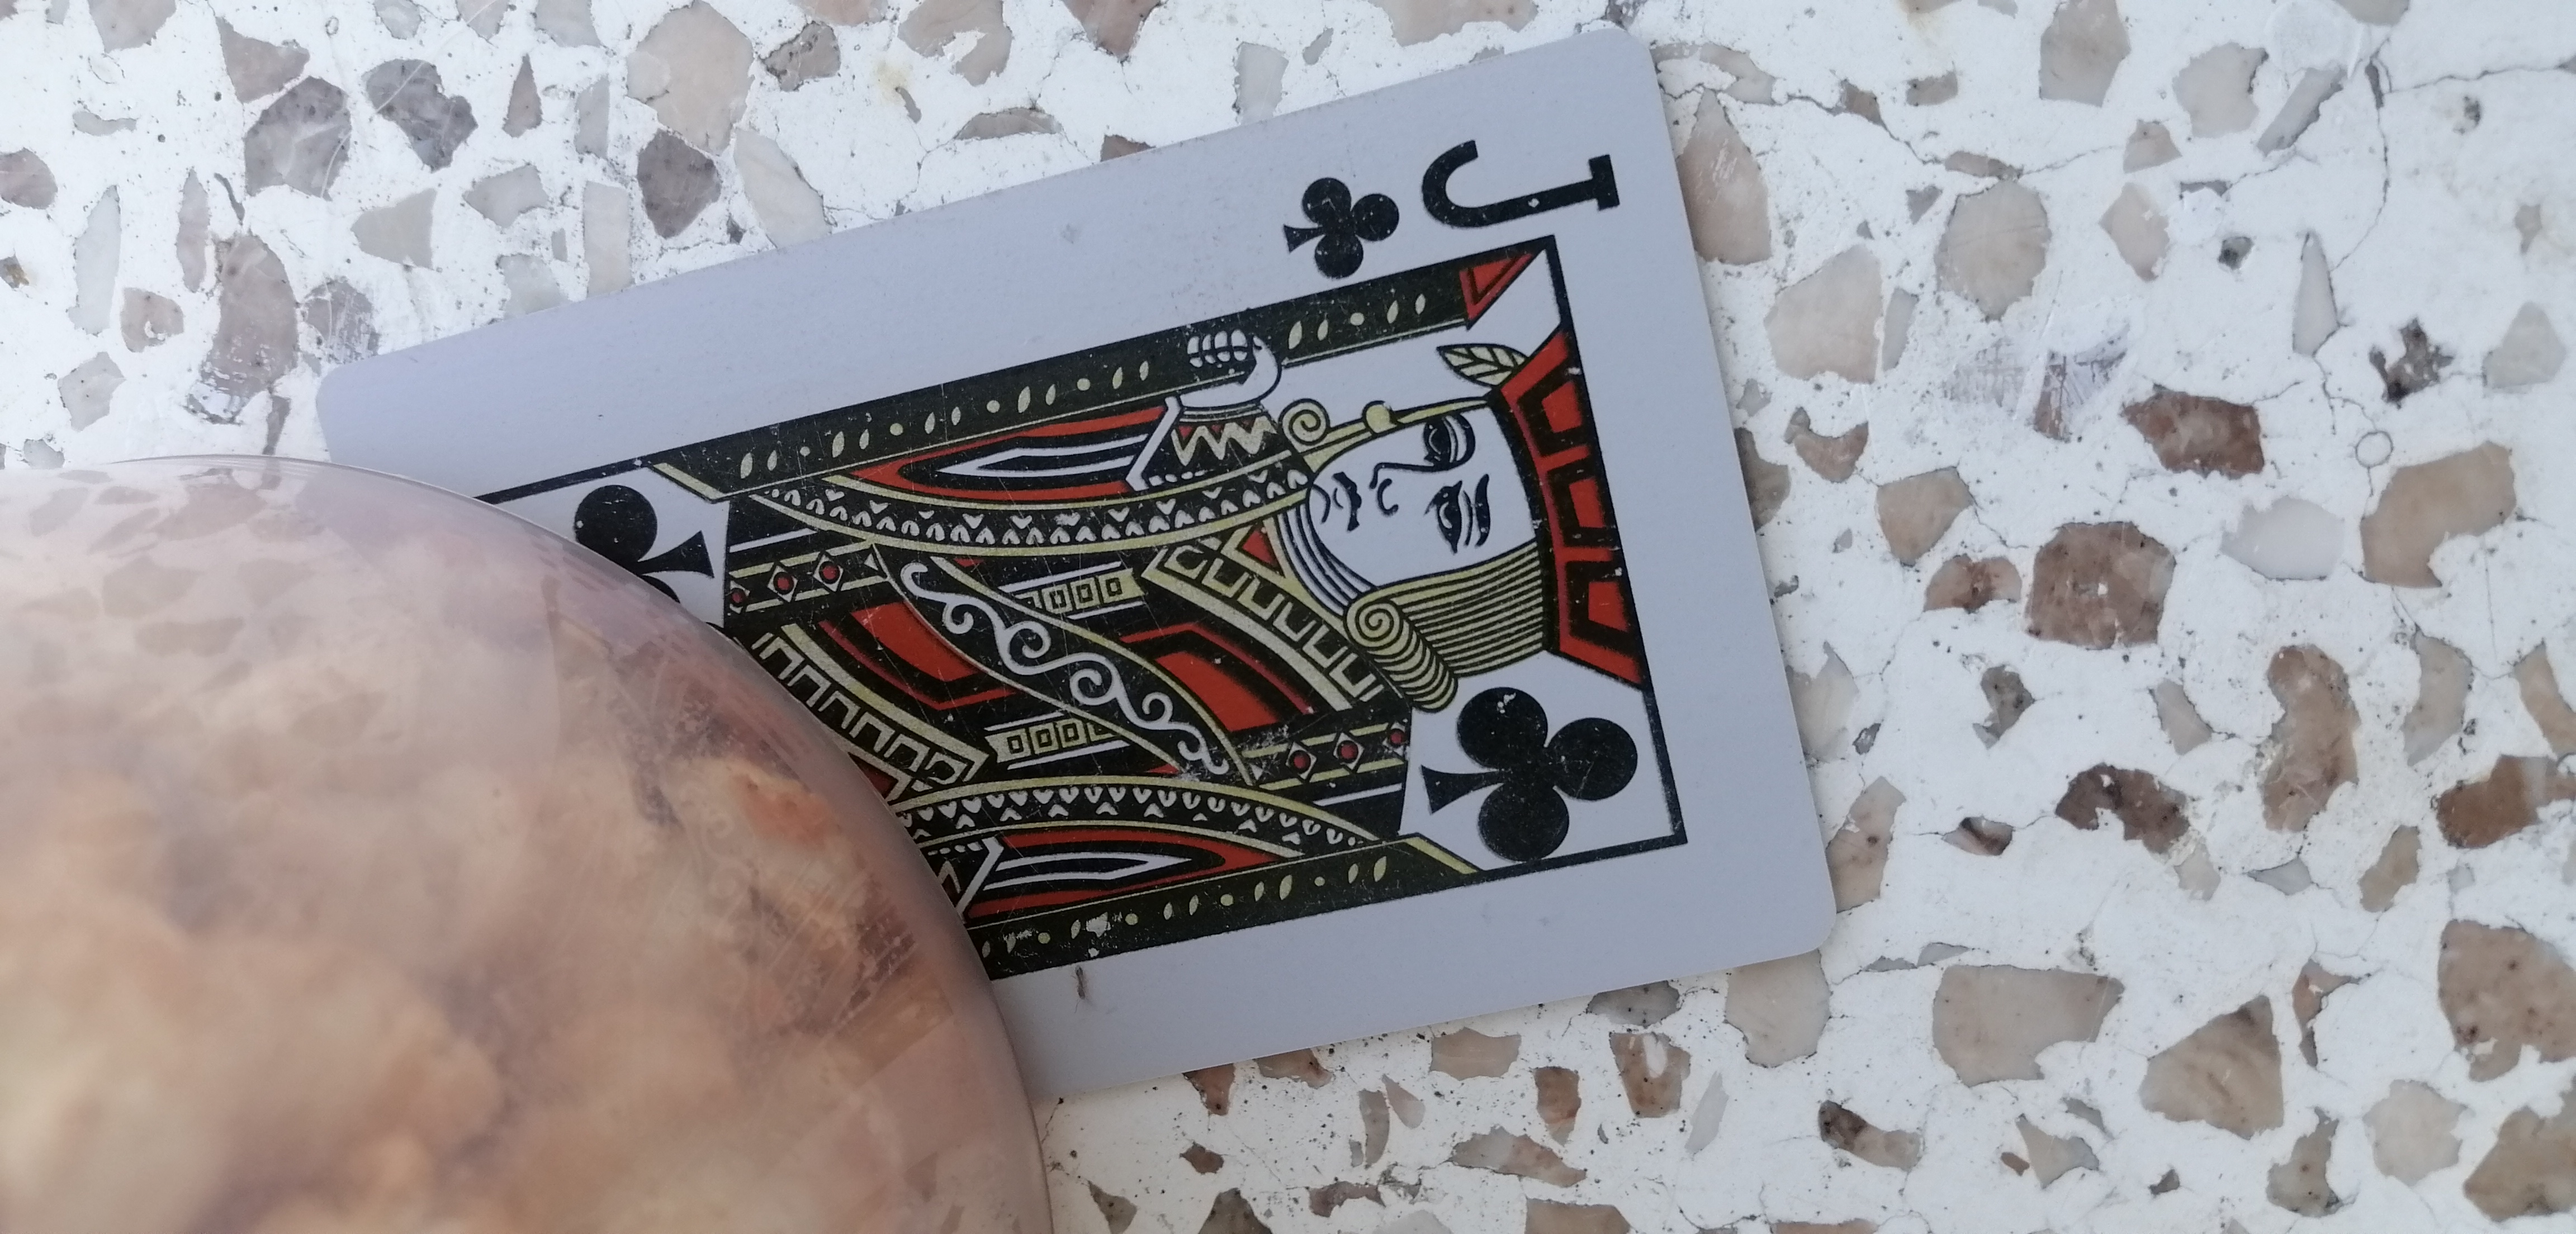jack: (299, 39, 1814, 996)
